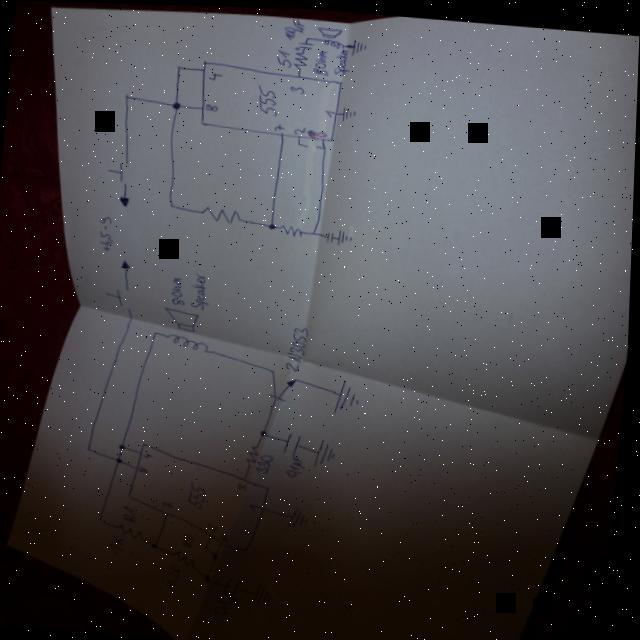capacitor: (286, 429, 306, 454), (226, 574, 246, 596), (293, 38, 314, 51), (326, 229, 337, 242)
ground: (334, 376, 365, 414), (315, 436, 341, 467), (288, 503, 314, 529), (254, 580, 277, 605), (338, 227, 355, 246), (341, 103, 359, 120), (352, 38, 368, 54)
junction: (170, 100, 183, 110), (260, 428, 272, 437), (168, 200, 179, 209), (268, 220, 278, 229), (120, 443, 128, 450), (154, 541, 162, 548), (311, 227, 319, 234), (123, 92, 130, 99), (208, 574, 215, 581), (117, 457, 125, 463), (152, 330, 160, 336), (87, 446, 94, 452), (175, 64, 182, 70), (215, 551, 222, 557), (321, 143, 328, 149), (205, 544, 212, 549), (101, 517, 107, 521), (296, 140, 302, 144)
resistor: (200, 203, 246, 224), (117, 522, 149, 541), (172, 547, 202, 567), (246, 443, 264, 466), (279, 222, 307, 236), (293, 49, 309, 69)
source: (119, 193, 132, 208), (120, 257, 134, 269)
switch: (105, 284, 137, 311), (106, 157, 133, 187)
text: (285, 323, 311, 370), (190, 271, 214, 308), (96, 214, 118, 252), (256, 84, 281, 116), (188, 481, 212, 509), (217, 592, 244, 616), (171, 274, 190, 306), (288, 454, 310, 477), (312, 47, 330, 75), (284, 16, 305, 40), (168, 563, 187, 589), (258, 451, 278, 473), (112, 534, 131, 556), (334, 47, 348, 75), (125, 503, 142, 523), (275, 48, 291, 65), (184, 532, 199, 548), (207, 69, 224, 81), (288, 82, 306, 93), (304, 127, 325, 136), (164, 498, 178, 509), (209, 520, 223, 531), (293, 124, 308, 134), (325, 106, 339, 116), (204, 102, 219, 111), (249, 501, 263, 510), (273, 122, 286, 131), (239, 481, 251, 490), (221, 531, 231, 541), (140, 465, 151, 474), (146, 451, 155, 459)
transistor: (268, 368, 301, 401)
